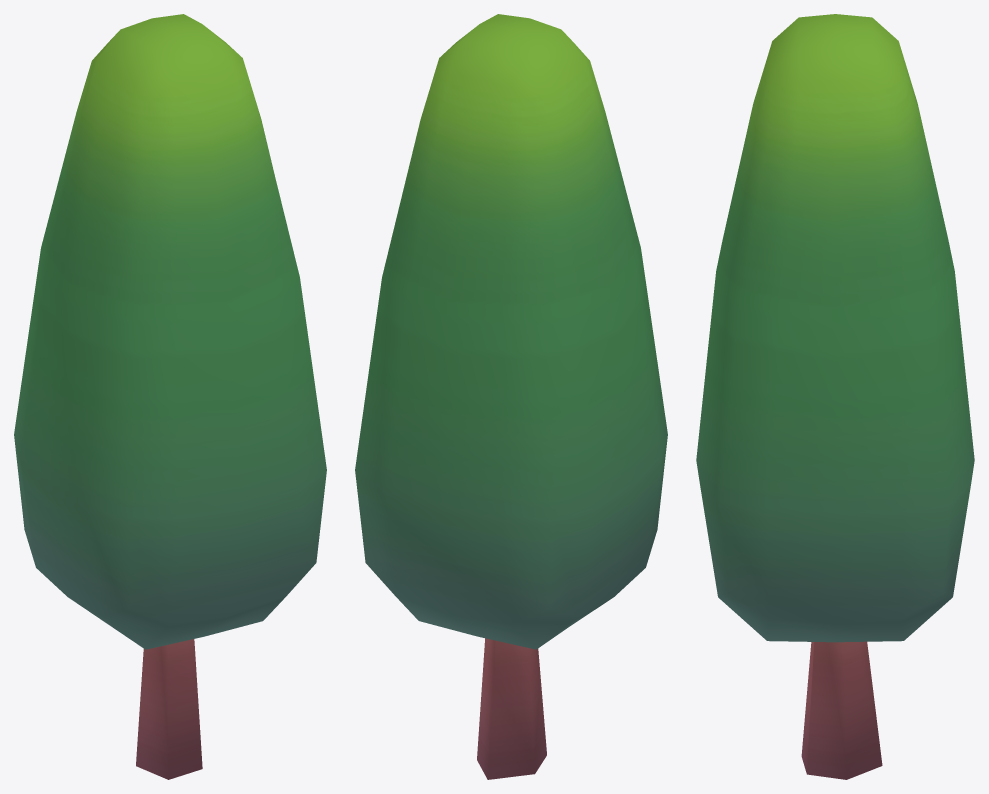
Rendered from village_town_tree_tall.glb.
The picture shows the model from 3 angles, left to right: view 1: azimuth 30°, elevation 25°; view 2: azimuth 150°, elevation 25°; view 3: azimuth 270°, elevation 25°; orthographic projection.
Visible parts, largest first — view 1: Tree_Tall_Material.005_0; view 2: Tree_Tall_Material.005_0; view 3: Tree_Tall_Material.005_0.
Part boxes in pixels (box(x1,y1,x2,y2)): Tree_Tall_Material.005_0: box(14, 14, 326, 779); Tree_Tall_Material.005_0: box(355, 14, 667, 779); Tree_Tall_Material.005_0: box(696, 14, 974, 779).
Bounding box in the file's own units: 0.9738 × 2.85 × 0.9738.
Materials: 1 (1 with a texture image).
